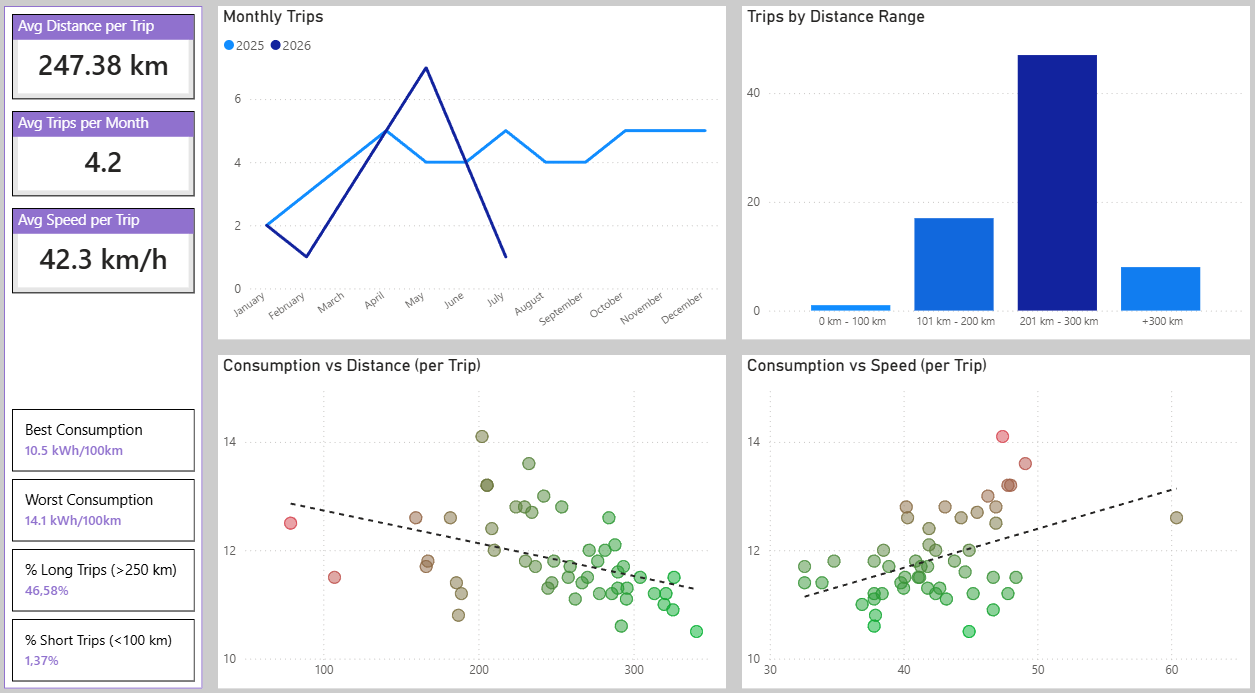

Layout of this report page (visuals, bound fields, positions):
{"tool":"powerbi","page":{"name":"Trips & Driving Behavior","canvas":[1280,720],"ordinal":3},"visuals":[{"type":"lineChart","title":"Monthly Trips","fields":{"Y":["trip_reports_enriched.Total Trips"],"Series":["dim_date.year"],"Category":["dim_date.month_name"]},"box":[224,16,512,336],"z":0},{"type":"shape","box":[8,8,200,704],"z":1000},{"type":"clusteredColumnChart","title":"Trips by Distance Range","fields":{"Category":["trip_reports_enriched.Distance Range"],"Y":["trip_reports_enriched.Total Trips"]},"box":[752,16,512,336],"z":2000},{"type":"cardVisual","title":"Avg Trips per Month","fields":{"Data":["trip_reports_enriched.Avg Trips per Month1"]},"box":[16,116,184,88],"z":3000},{"type":"cardVisual","title":"Avg Speed per Trip","fields":{"Data":["trip_reports_enriched.Avg Speed per Trip Display"]},"box":[16,216,184,88],"z":4000},{"type":"cardVisual","fields":{"Data":["trip_reports_enriched.Best Consumption"]},"box":[16,424,184,64],"z":5000},{"type":"cardVisual","fields":{"Data":["dim_date.Worst Consumption"]},"box":[16,496,184,64],"z":6000},{"type":"cardVisual","fields":{"Data":["dim_date.% Long Trips"]},"box":[16,568,184,64],"z":7000},{"type":"cardVisual","fields":{"Data":["trip_reports_enriched.% Short Trips (<100 km)"]},"box":[16,640,184,64],"z":8000},{"type":"slicer","fields":{"Values":["dim_date.date_key.Variation.Date Hierarchy.Year"]},"box":[1120,368,144,48],"z":9000},{"type":"cardVisual","title":"Avg Distance per Trip","fields":{"Data":["trip_reports_enriched.Avg Distance per Trip Display"]},"box":[16,16,184,88],"z":10000},{"type":"scatterChart","title":"Consumption vs Distance (per Trip)","fields":{"X":["trip_reports_enriched.distance_km"],"Y":["Avg(trip_reports_enriched.avg_consumption_kwh_100km)"]},"box":[224,368,512,336],"z":11000},{"type":"scatterChart","title":"Consumption vs Speed (per Trip)","fields":{"Y":["trip_reports_enriched.avg_consumption_kwh_100km"],"X":["trip_reports_enriched.average_speed"]},"box":[752,368,512,336],"z":12000}]}

Visuals, with their boxes in screenshot pixels (x1, y1, x2, y2), scaled from the page's 1280x720 canvas onto the 1255x693 screenshot:
"Monthly Trips" lineChart: 220:15:722:339
shape: 8:8:204:685
"Trips by Distance Range" clusteredColumnChart: 737:15:1239:339
"Avg Trips per Month" cardVisual: 16:112:196:196
"Avg Speed per Trip" cardVisual: 16:208:196:293
cardVisual - trip_reports_enriched.Best Consumption: 16:408:196:470
cardVisual - dim_date.Worst Consumption: 16:477:196:539
cardVisual - dim_date.% Long Trips: 16:547:196:608
cardVisual - trip_reports_enriched.% Short Trips (<100 km): 16:616:196:678
slicer - dim_date.date_key.Variation.Date Hierarchy.Year: 1098:354:1239:400
"Avg Distance per Trip" cardVisual: 16:15:196:100
"Consumption vs Distance (per Trip)" scatterChart: 220:354:722:678
"Consumption vs Speed (per Trip)" scatterChart: 737:354:1239:678
